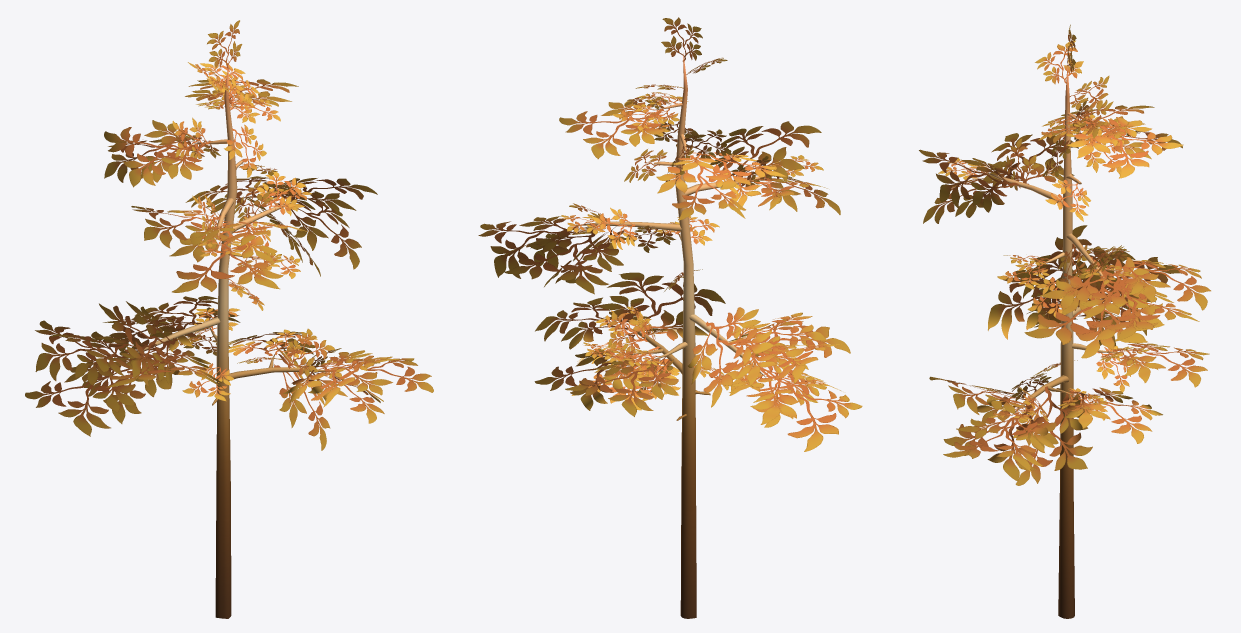
File: Tree_5.fbx
3 renders of one model, left to right at view 1: azimuth 30°, elevation 25°; view 2: azimuth 150°, elevation 25°; view 3: azimuth 270°, elevation 25°, orthographic.
Visible parts, largest first — view 1: Foliage, Trunk5; view 2: Foliage, Trunk5; view 3: Foliage, Trunk5.
Part boxes in pixels (x1,y1,x2,y2): Foliage: [25, 20, 433, 450]; Trunk5: [126, 60, 332, 618]; Foliage: [478, 17, 862, 451]; Trunk5: [570, 53, 765, 618]; Foliage: [919, 24, 1210, 485]; Trunk5: [982, 63, 1124, 618].
Bounding box in the file's own units: 462 × 683 × 332.
